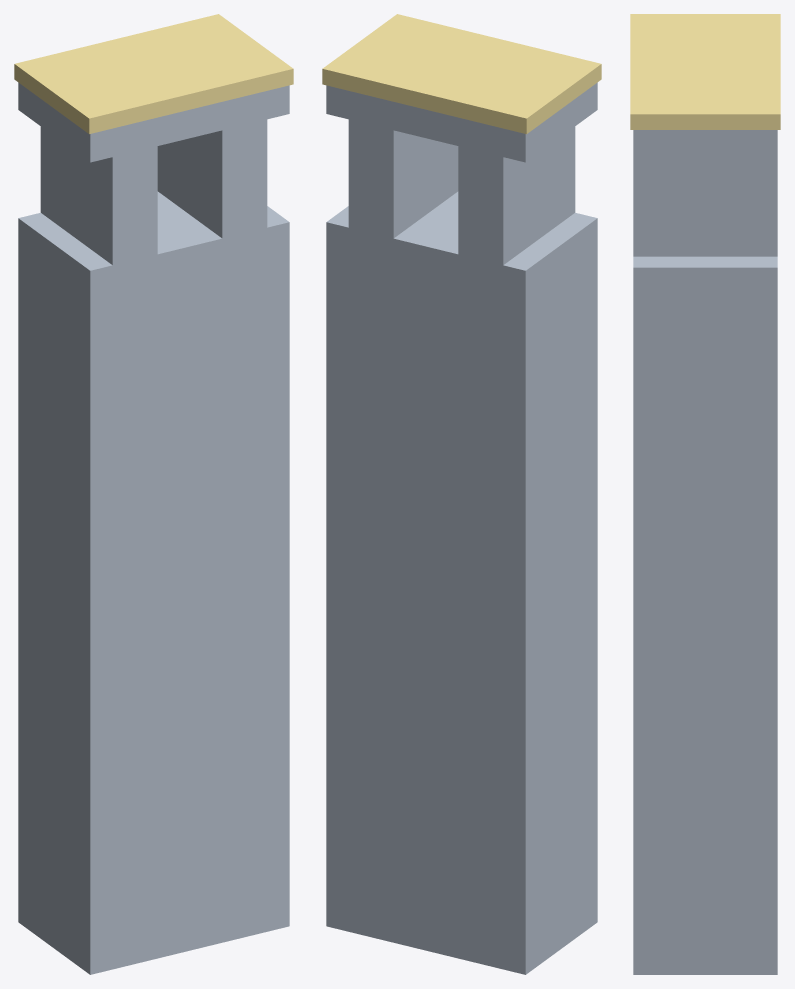
Rendered from SWFC.fbx.
3 views of the same model, side by side, from view 1: azimuth 30°, elevation 25°; view 2: azimuth 150°, elevation 25°; view 3: azimuth 270°, elevation 25° (orthographic).
Visible parts, largest first — view 1: SWFC_Body, SWFC_Crown, SWFC_PillarL, SWFC_PillarR, SWFC_Beam; view 2: SWFC_Body, SWFC_Crown, SWFC_PillarL, SWFC_PillarR, SWFC_Beam; view 3: SWFC_Body, SWFC_Crown, SWFC_PillarR, SWFC_Beam.
Boxes of the visible parts, box(x1,y1,x2,y2) form: SWFC_Body: box(18, 191, 289, 974); SWFC_Crown: box(14, 14, 293, 134); SWFC_PillarL: box(40, 126, 157, 328); SWFC_PillarR: box(157, 110, 267, 303); SWFC_Beam: box(18, 82, 289, 162); SWFC_Body: box(326, 191, 597, 974); SWFC_Crown: box(322, 14, 601, 134); SWFC_PillarL: box(458, 126, 575, 330); SWFC_PillarR: box(348, 110, 458, 303); SWFC_Beam: box(326, 82, 597, 162); SWFC_Body: box(633, 256, 777, 974); SWFC_Crown: box(630, 14, 780, 129); SWFC_PillarR: box(633, 158, 777, 256); SWFC_Beam: box(633, 130, 777, 158).
Size of the model in its own units: 1640 by 6580 by 1040.
